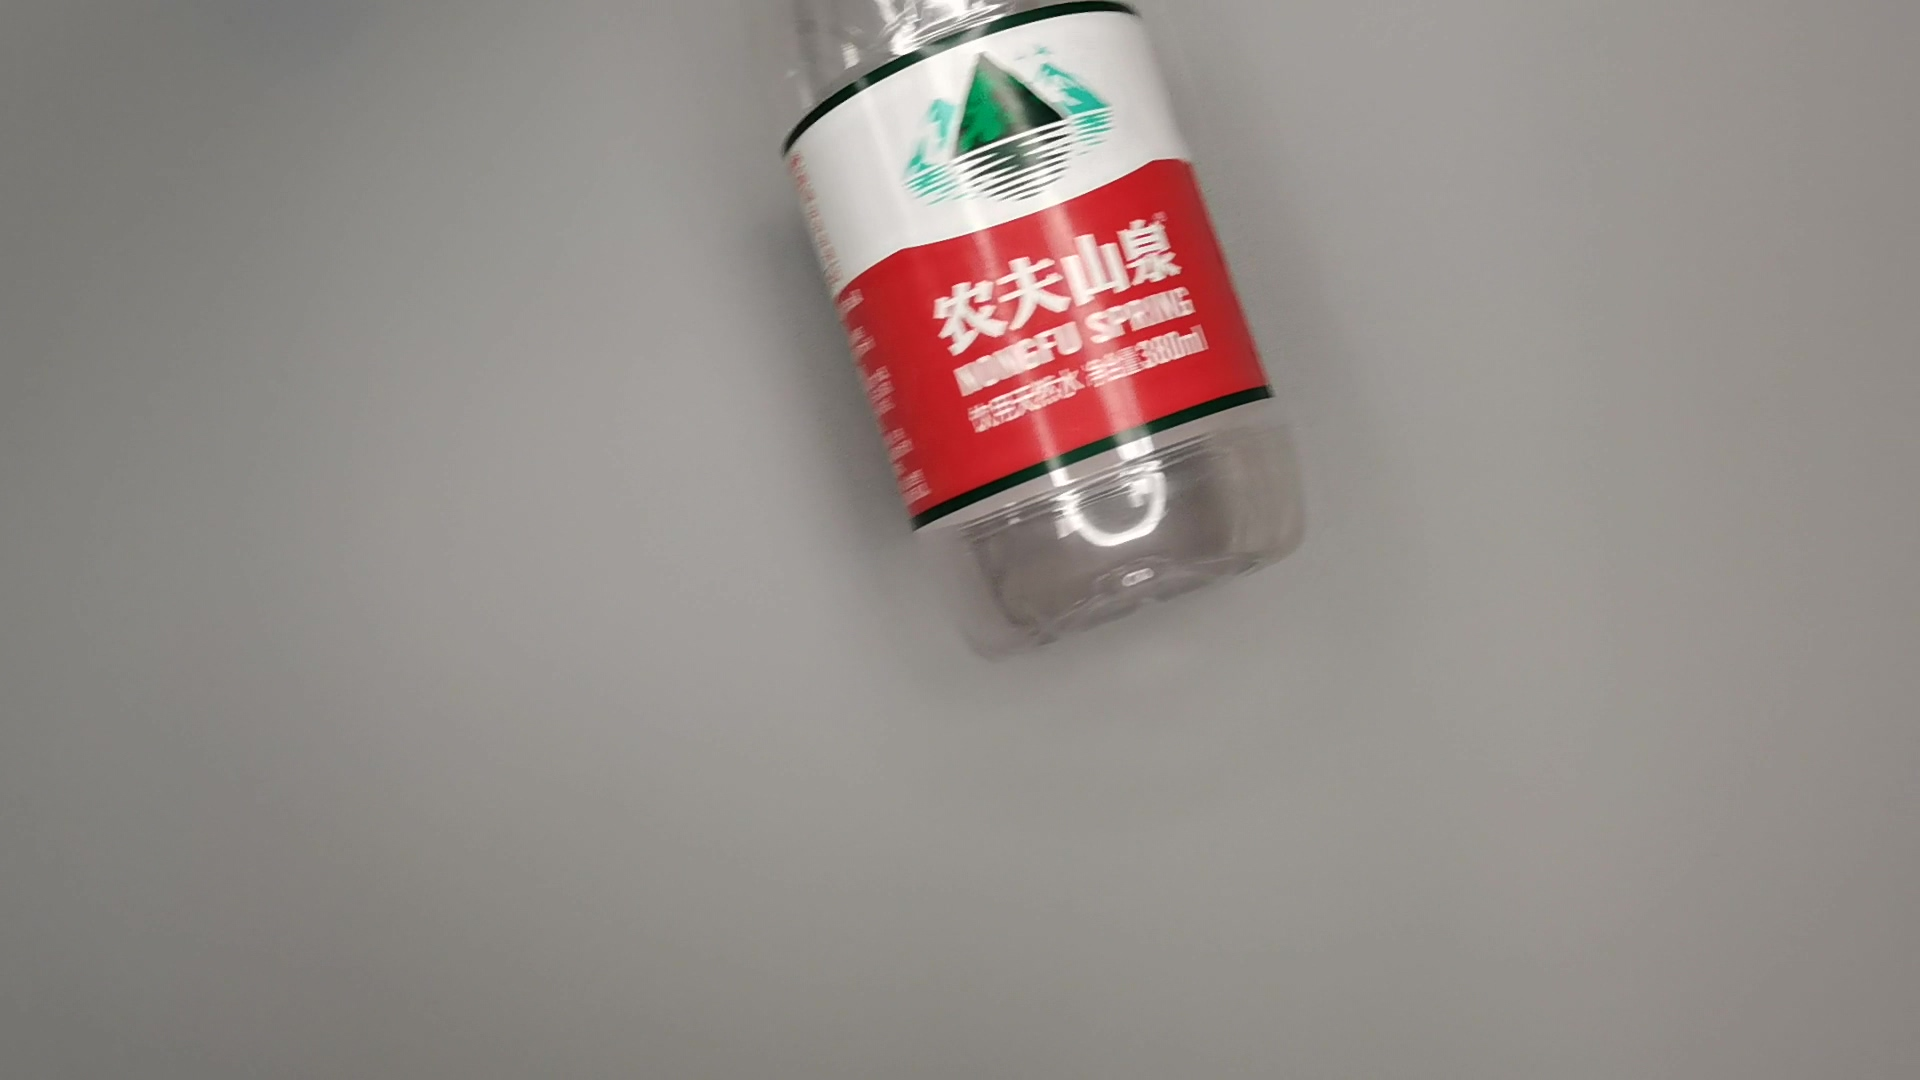bottle: (773, 1, 1344, 676)
